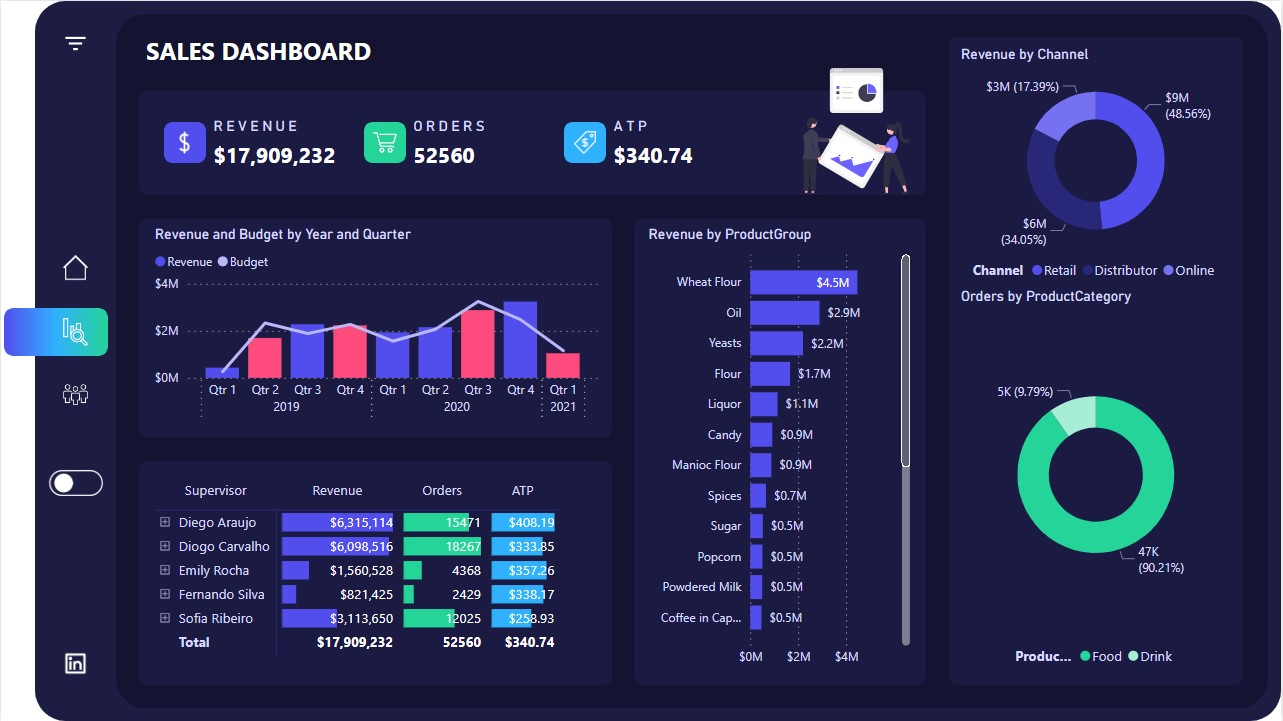

The page's visual inventory and layout, read from the dashboard file:
{"tool":"powerbi","page":{"name":"Dark Mode","canvas":[1280,720],"ordinal":0},"visuals":[{"type":"multiRowCard","title":"R E V E N U E","fields":{"Values":["Sales.Revenue"]},"box":[207.2,118,153.7,57.6],"z":0},{"type":"lineClusteredColumnComboChart","title":"Revenue and Budget by Year and Quarter","fields":{"Y":["Sales.Revenue"],"Category":["Date.Date.Variation.Date Hierarchy.Year","Date.Date.Variation.Date Hierarchy.Quarter","Date.Date.Variation.Date Hierarchy.Month","Date.Date.Variation.Date Hierarchy.Day"],"Y2":["Measure.Budget"]},"box":[148.2,225,452.8,203.1],"z":1000},{"type":"donutChart","title":"Revenue by Channel","fields":{"Category":["Sales.Channel"],"Y":["Measure.Revenue"]},"box":[955.1,45.3,279.9,242.9],"z":2000},{"type":"multiRowCard","title":"O R D E R S","fields":{"Values":["Sales.Orders"]},"box":[407.5,118,153.7,57.6],"z":3000},{"type":"multiRowCard","title":"A T P","fields":{"Values":["Sales.ATP"]},"box":[607.9,118,153.7,57.6],"z":4000},{"type":"pivotTable","fields":{"Rows":["Salesperson.Supervisor","Salesperson.Salesperson"],"Values":["Sales.Revenue","Sales.Orders","Sales.ATP"]},"box":[148.2,470.7,452.8,203.1],"z":5000},{"type":"textbox","box":[140,28.8,326.6,57.6],"z":6000},{"type":"clusteredBarChart","title":"Revenue by ProductGroup","fields":{"Y":["Sales.Revenue"],"Category":["Product.ProductGroup"]},"box":[642.2,225,271.7,448.7],"z":7000},{"type":"donutChart","fields":{"Category":["Product.ProductCategory"],"Y":["Sales.Orders"]},"box":[955,288,280,386],"z":8000},{"type":"image","box":[37.2,461.6,74.4,40.7],"z":9000},{"type":"actionButton","box":[48,12,55,60],"z":10000},{"type":"actionButton","box":[50.8,373.2,45.3,37],"z":12000}]}

Visuals, with their boxes on the page's 1280x720 design canvas (x1, y1, x2, y2). These are canvas units, not pixel positions in the 1283x721 screenshot, which may show the page scaled, cropped or inside an application window:
"R E V E N U E" multiRowCard: x1=207 y1=118 x2=361 y2=176
"Revenue and Budget by Year and Quarter" lineClusteredColumnComboChart: x1=148 y1=225 x2=601 y2=428
"Revenue by Channel" donutChart: x1=955 y1=45 x2=1235 y2=288
"O R D E R S" multiRowCard: x1=408 y1=118 x2=561 y2=176
"A T P" multiRowCard: x1=608 y1=118 x2=762 y2=176
pivotTable - Salesperson.Supervisor x Salesperson.Salesperson: x1=148 y1=471 x2=601 y2=674
textbox: x1=140 y1=29 x2=467 y2=86
"Revenue by ProductGroup" clusteredBarChart: x1=642 y1=225 x2=914 y2=674
donutChart - Product.ProductCategory x Sales.Orders: x1=955 y1=288 x2=1235 y2=674
image: x1=37 y1=462 x2=112 y2=502
actionButton: x1=48 y1=12 x2=103 y2=72
actionButton: x1=51 y1=373 x2=96 y2=410
